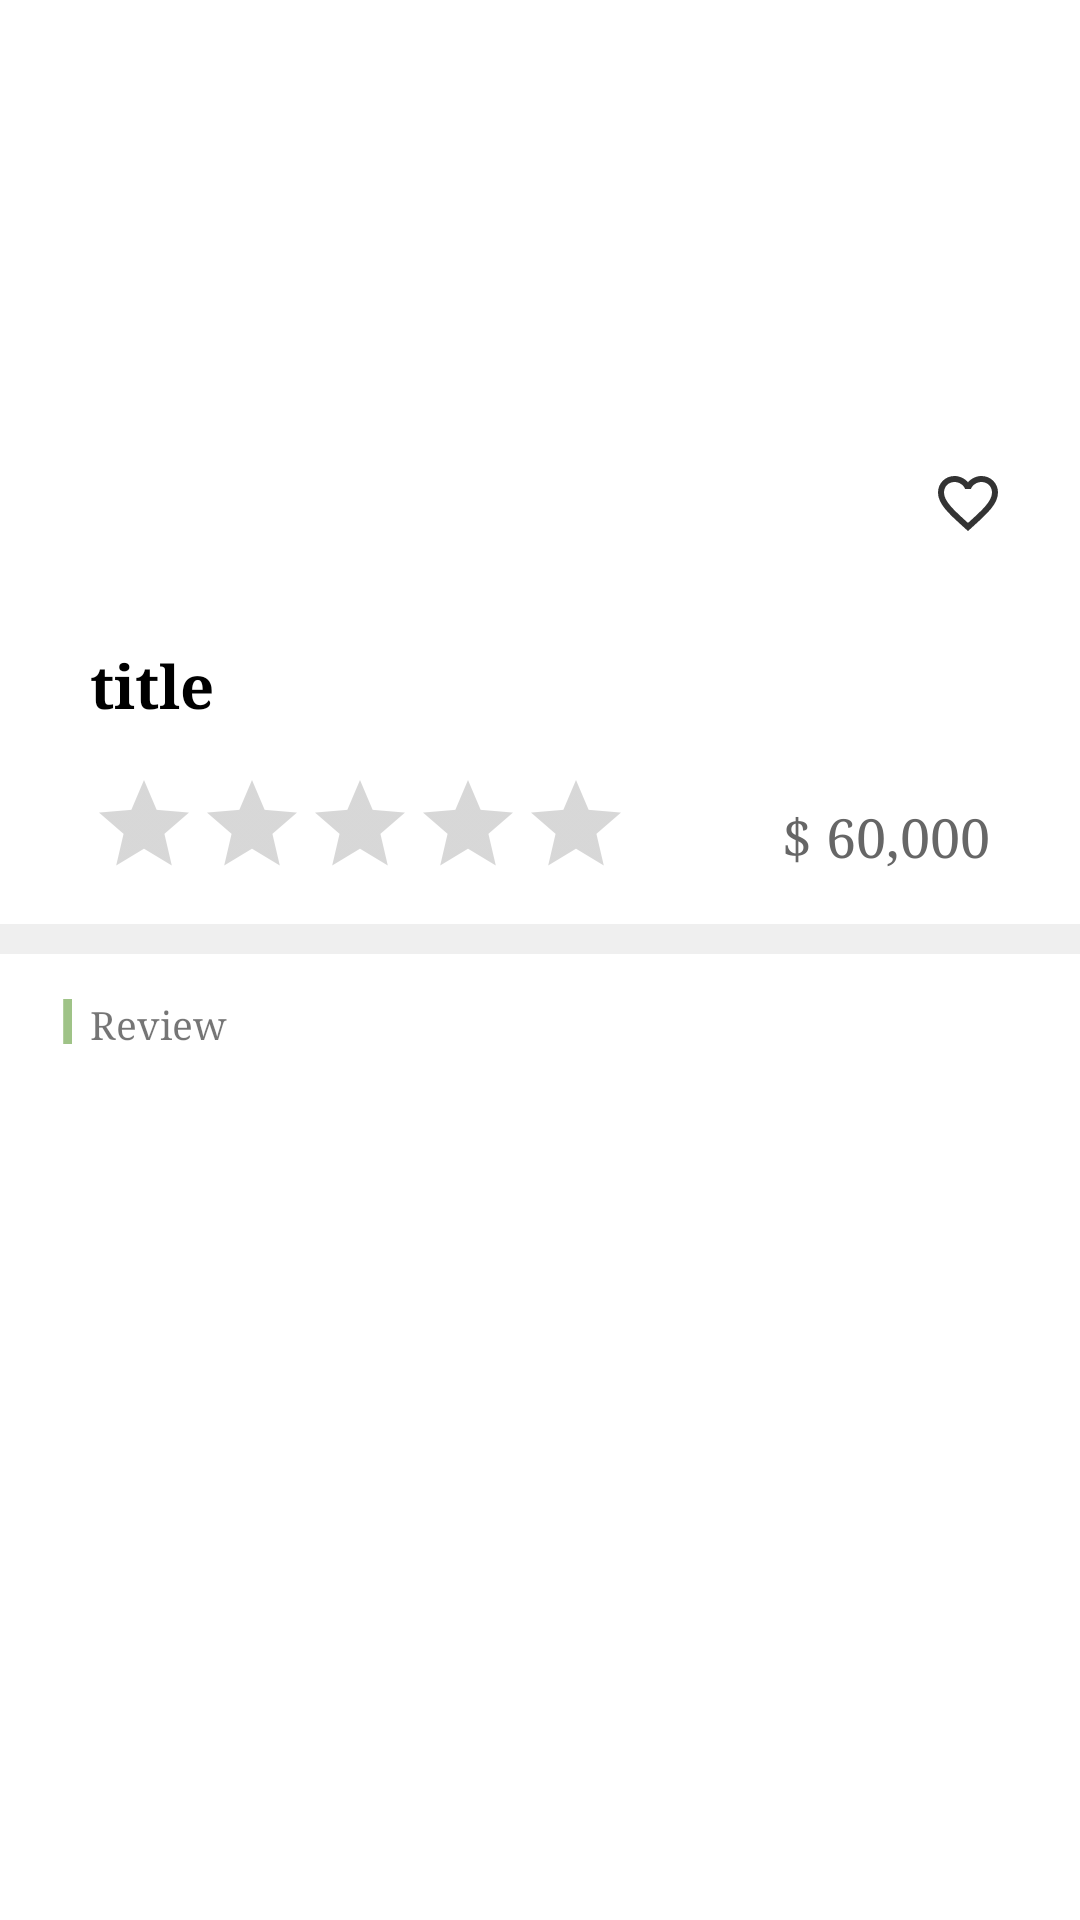

Icon click points for this 1080px x 1920px phone screenshot, format (x=x, y=y):
wishlist: (x=968, y=503)
